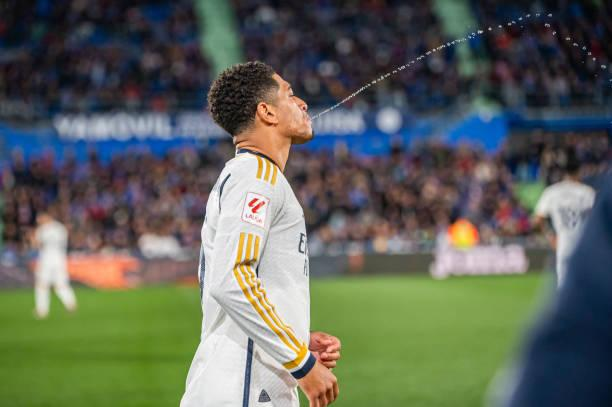Spitting: (178, 32, 356, 174)
